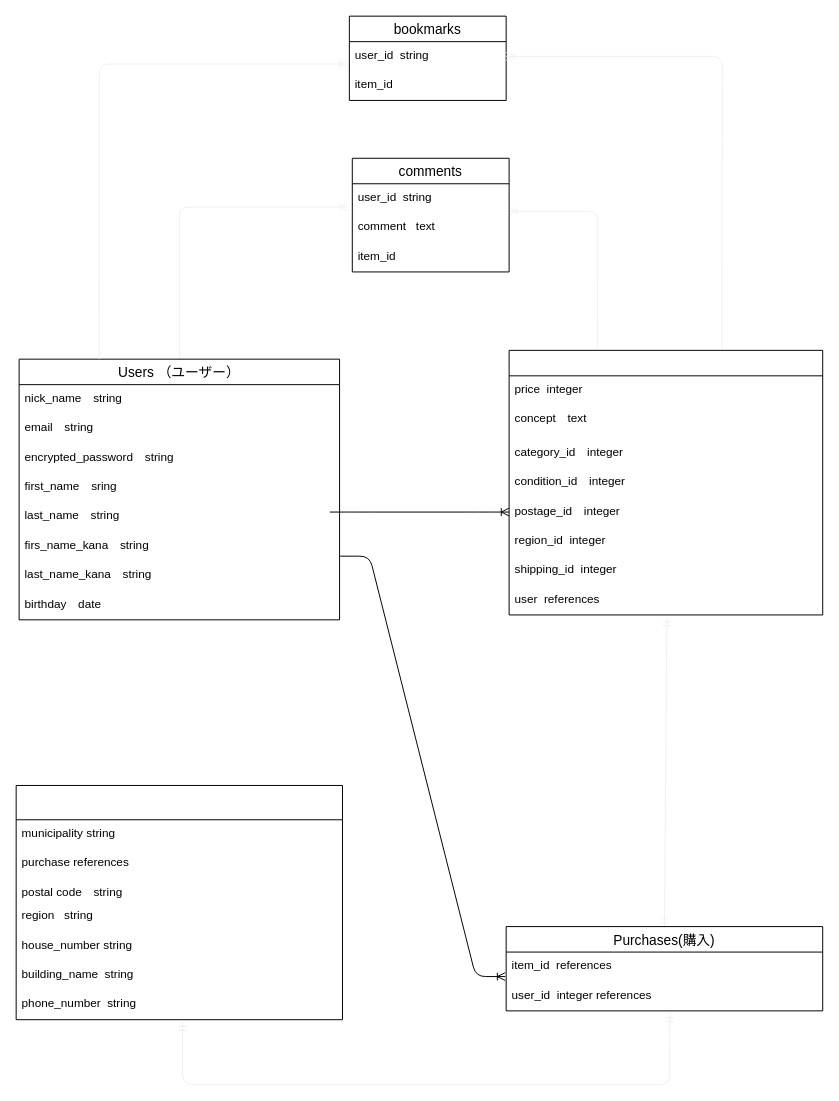
Some shapes in this 839 by 1101 pixel diagram are drawn without their labels. Each missing label, with the box of its shape:
addresses（住所）: (15, 784, 343, 1020)
Items （商品）: (508, 349, 823, 615)
